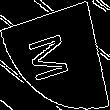M_E: (30, 26, 80, 84)
